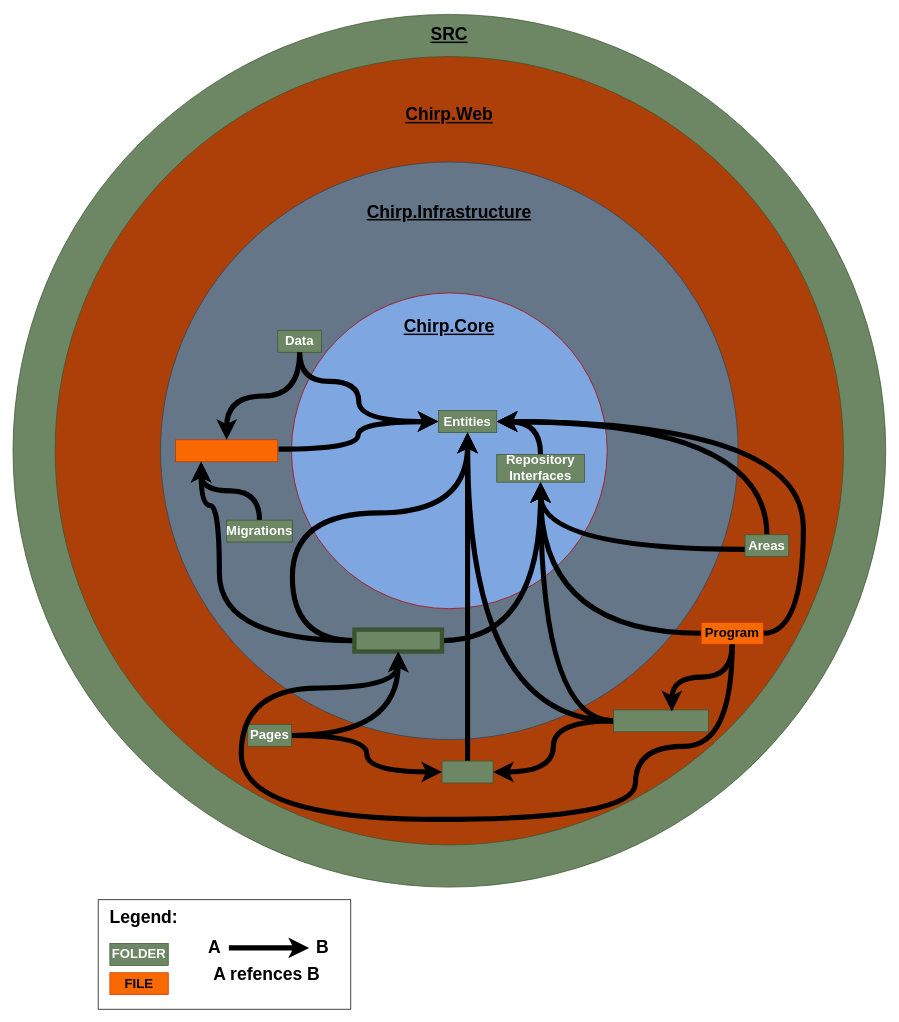
Some shapes in this 899 by 1022 pixel diagram are drawn without their labels. The centre of each missing label's shape, as x and y in pixels:
"CheepService" belongs at point (660, 720).
"ChirpDbContext" belongs at point (226, 450).
"Models" belongs at point (467, 771).
"Repositories" belongs at point (398, 640).
